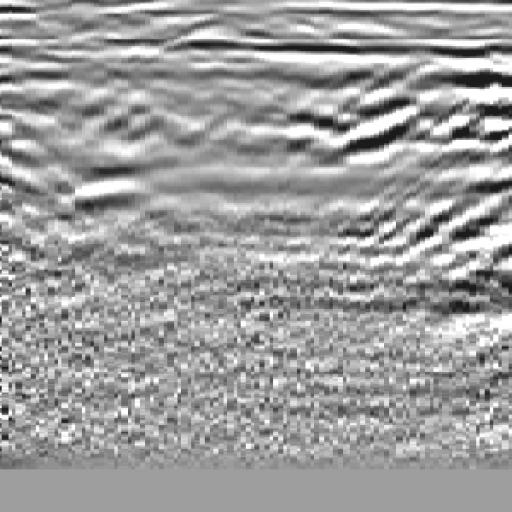metalic: (26, 34, 202, 287)
nonmetalic: (377, 44, 512, 307)
